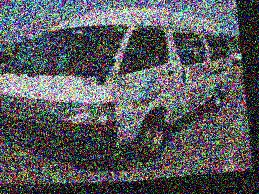van: (0, 0, 251, 185)
